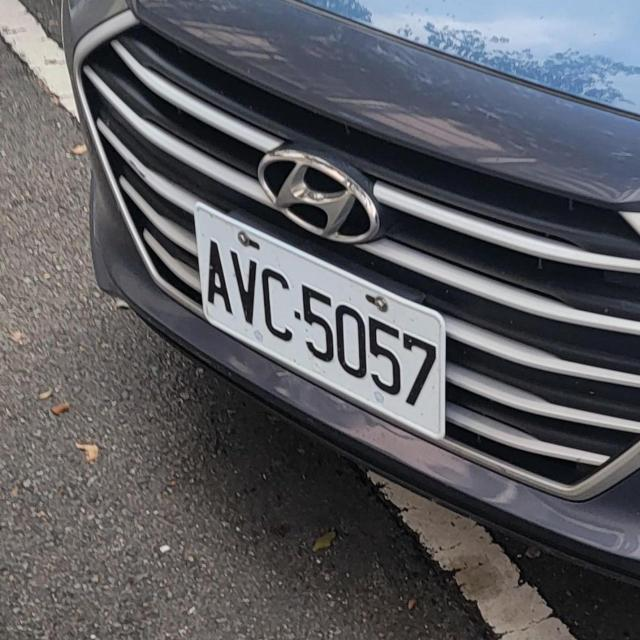W: (183, 212, 463, 437)
